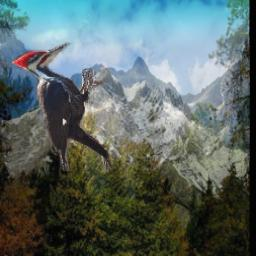Woodpecker: (10, 42, 113, 171)
